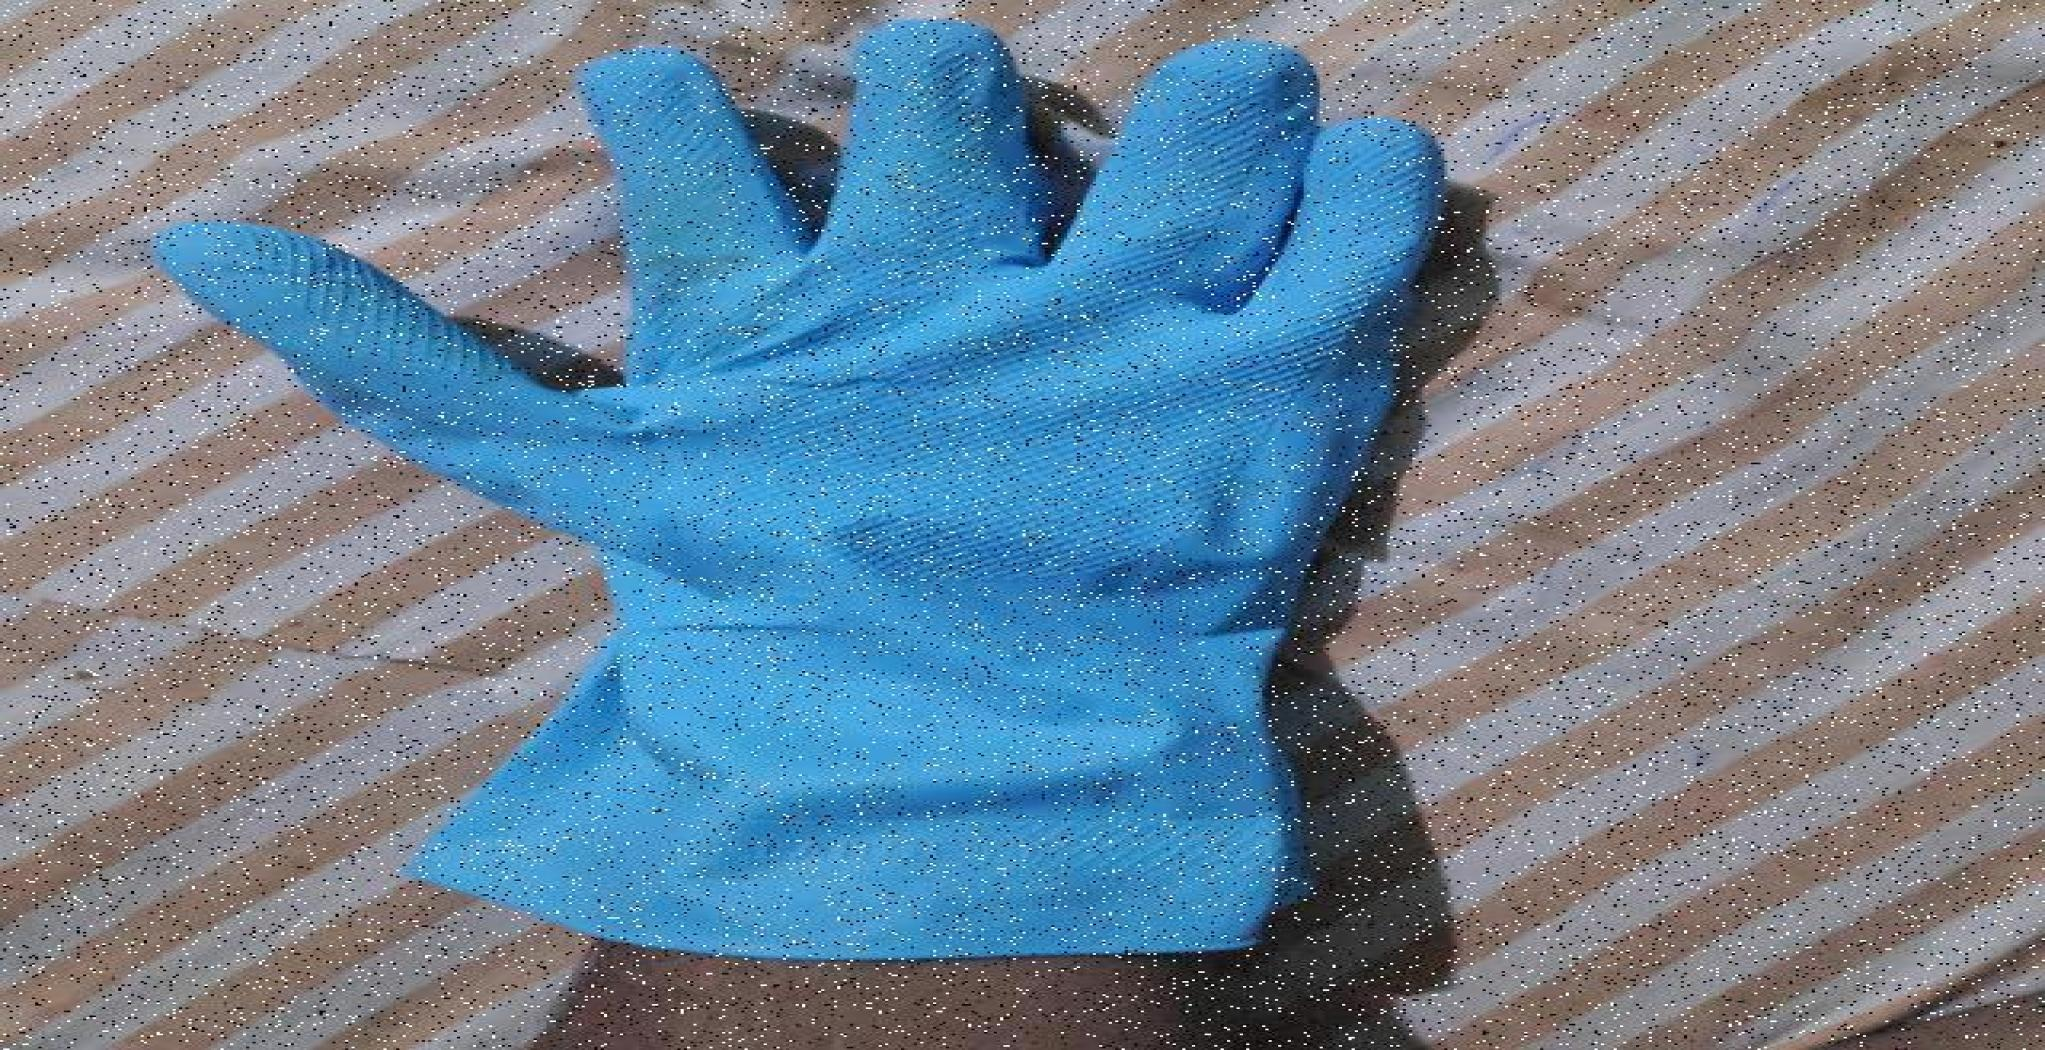gloved: (143, 17, 1450, 962)
